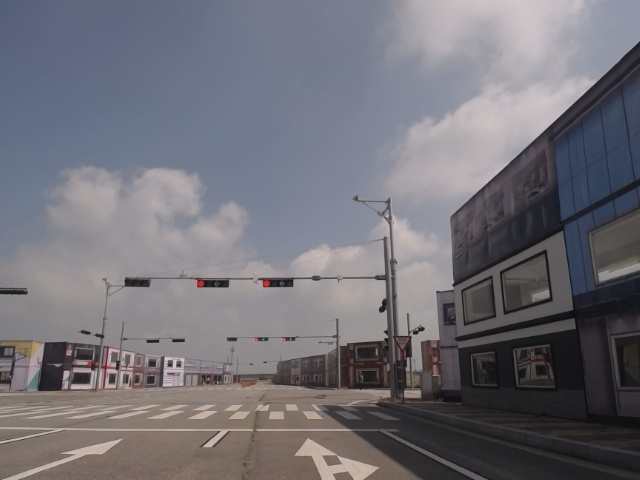left_green_4: (196, 280, 230, 287), (263, 280, 294, 287)
